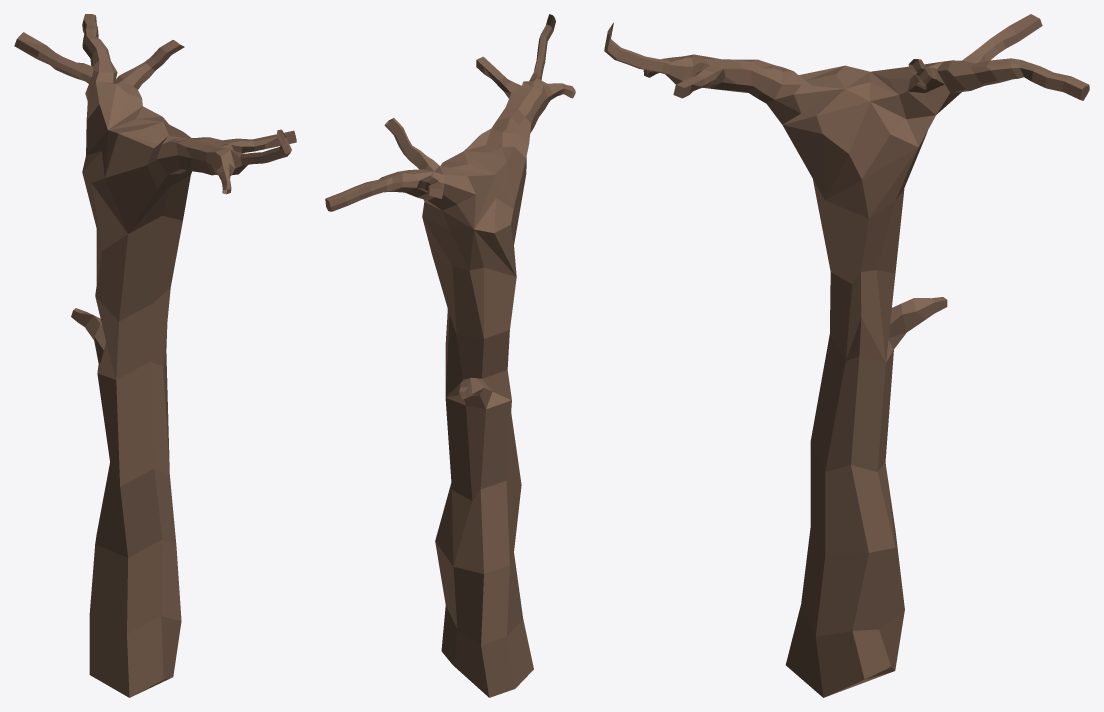
The model's file is tree_1.fbx.
3 renders of one model, left to right at view 1: azimuth 30°, elevation 25°; view 2: azimuth 150°, elevation 25°; view 3: azimuth 270°, elevation 25°, orthographic. The views are drawn at different scales.
Visible parts, largest first — view 1: Cube.008; view 2: Cube.008; view 3: Cube.008.
Boxes of the visible parts, x1,y1,x2,y2 form: Cube.008: (14,14,296,697); Cube.008: (325,14,575,697); Cube.008: (604,14,1089,697).
Bounding box in the file's own units: 85.95 × 406 × 262.
